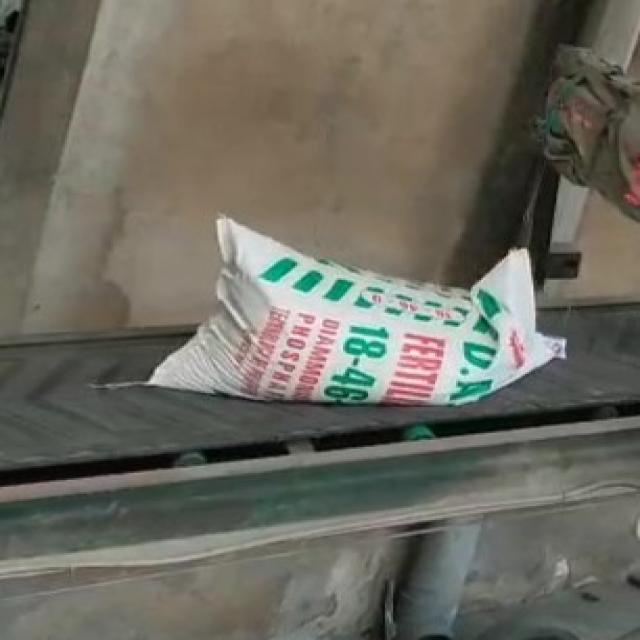gunny_bag: (152, 216, 565, 404)
